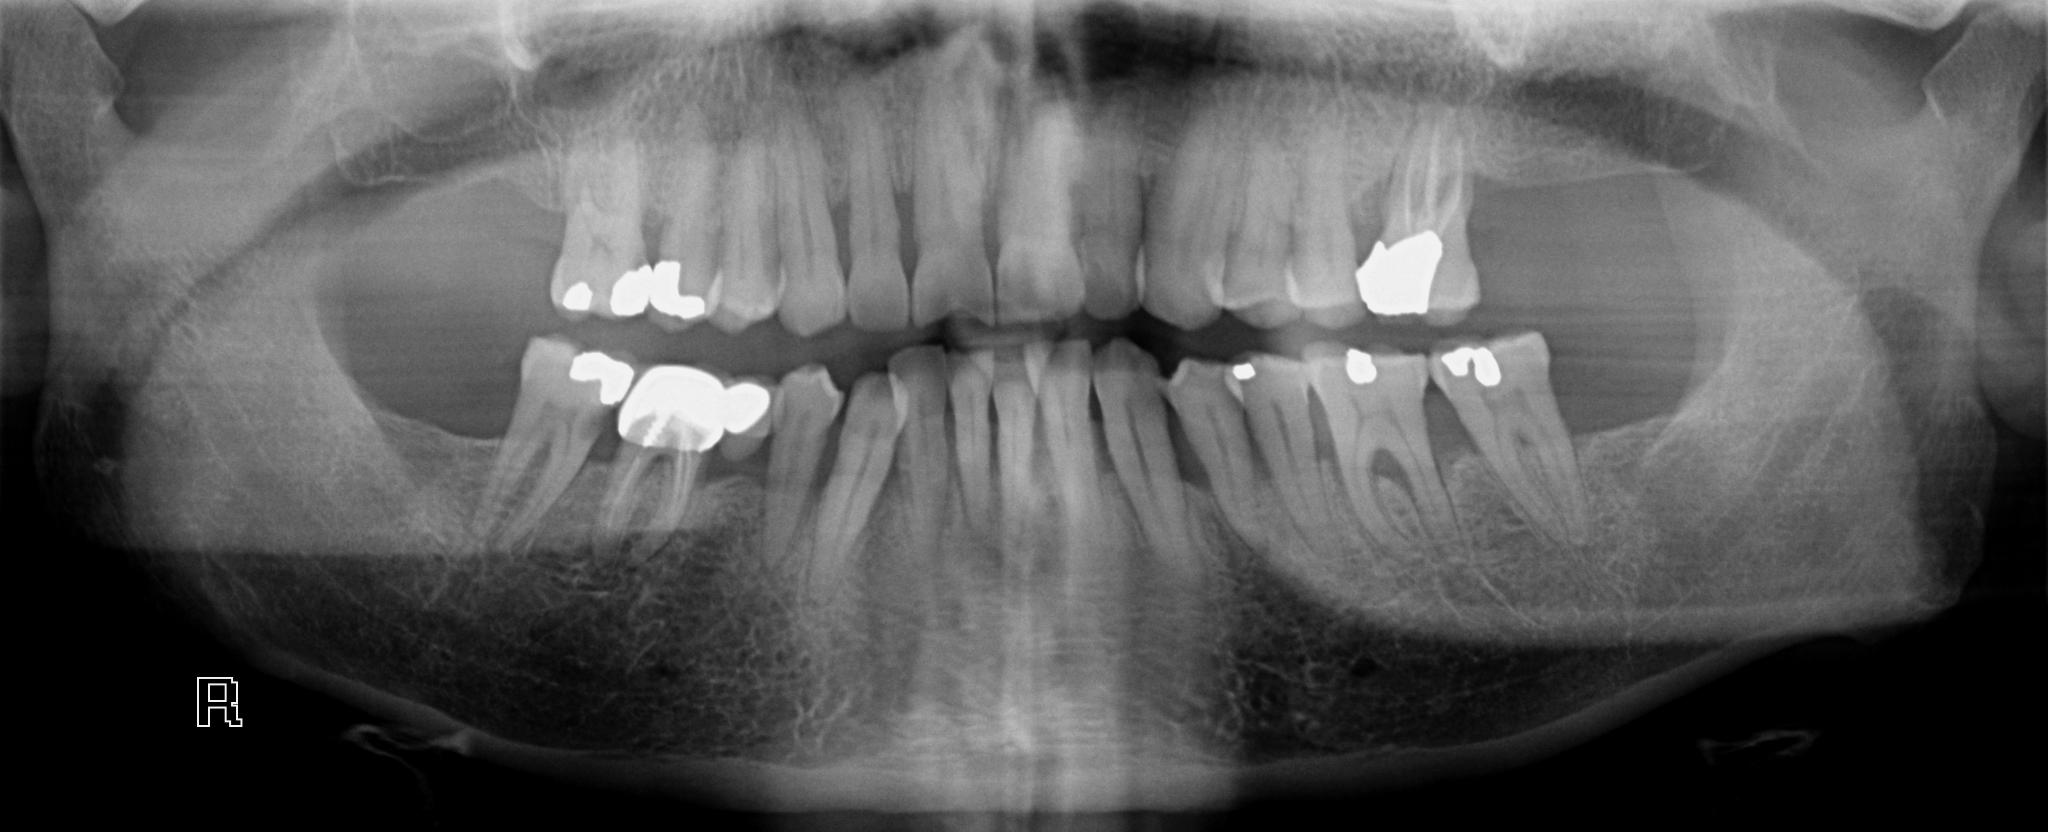Fillings: (1426, 332, 1580, 537), (483, 338, 632, 549), (542, 142, 649, 325), (644, 144, 722, 327)
Implant: (592, 359, 769, 576), (1351, 120, 1490, 327)
